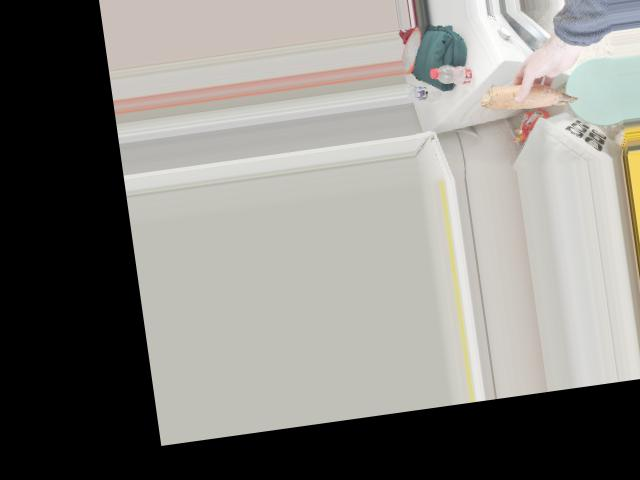sweet_potato: (482, 75, 578, 122)
